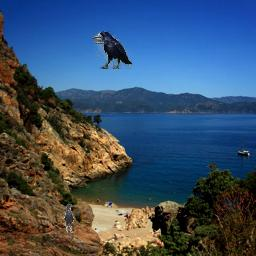Crow: (92, 31, 132, 69), (64, 204, 74, 233)
